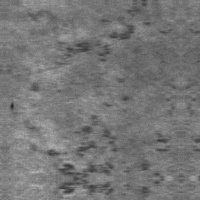rolled-in_scale: (47, 3, 147, 69), (30, 112, 117, 178), (119, 125, 173, 177)
